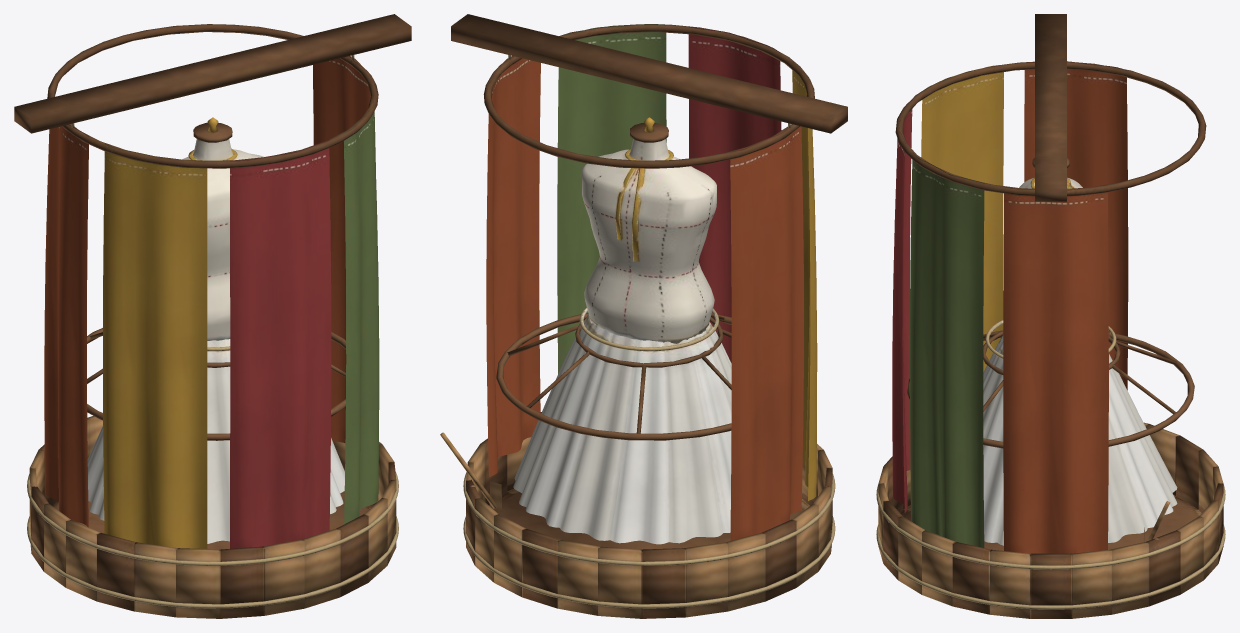
File: dress_form.glb
3 renders of one model, left to right at view 1: azimuth 30°, elevation 25°; view 2: azimuth 150°, elevation 25°; view 3: azimuth 270°, elevation 25°, orthographic. The views are drawn at different scales.
Visible parts, largest first — view 1: prop_dress_form_felt, prop_dress_form_wood; view 2: prop_dress_form_felt, prop_dress_form_wood; view 3: prop_dress_form_felt, prop_dress_form_wood.
Part boxes in pixels (left/top/right/bottom): prop_dress_form_felt: left=27, top=55, right=398, bottom=608; prop_dress_form_wood: left=14, top=14, right=411, bottom=618; prop_dress_form_felt: left=463, top=24, right=835, bottom=608; prop_dress_form_wood: left=440, top=14, right=847, bottom=618; prop_dress_form_felt: left=876, top=61, right=1225, bottom=609; prop_dress_form_wood: left=878, top=14, right=1223, bottom=618.
Bounding box in the file's own units: 4.4 × 5.25 × 3.73.
3 materials, 2 textured.
